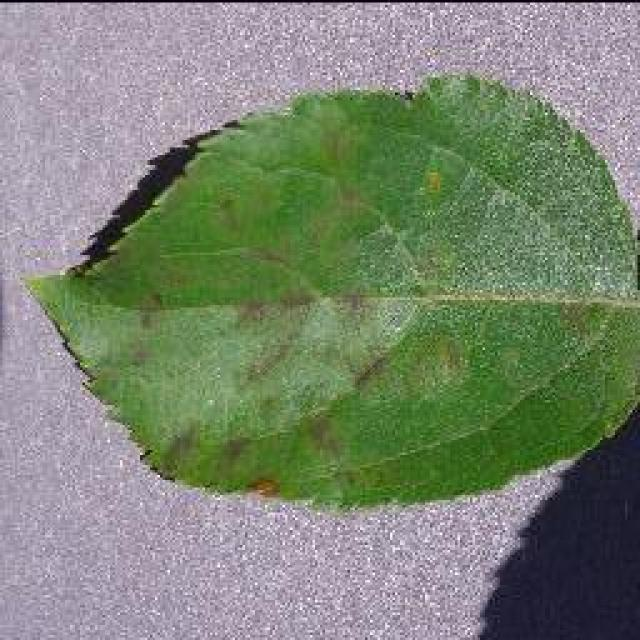apple scab disease: (22, 68, 638, 510)
